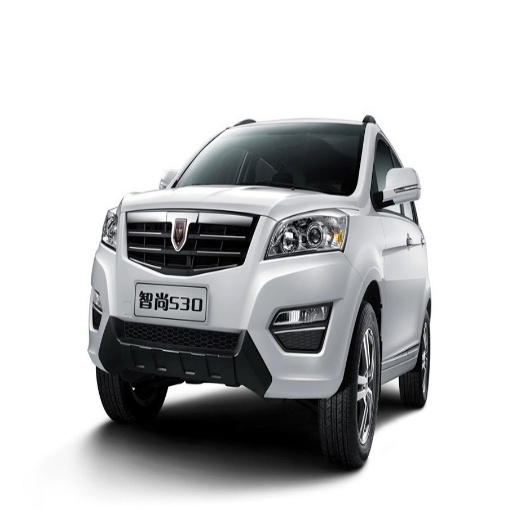front_bumper: (88, 209, 361, 396)
front_glass: (174, 125, 364, 193)
front_left_door: (371, 130, 410, 358)
